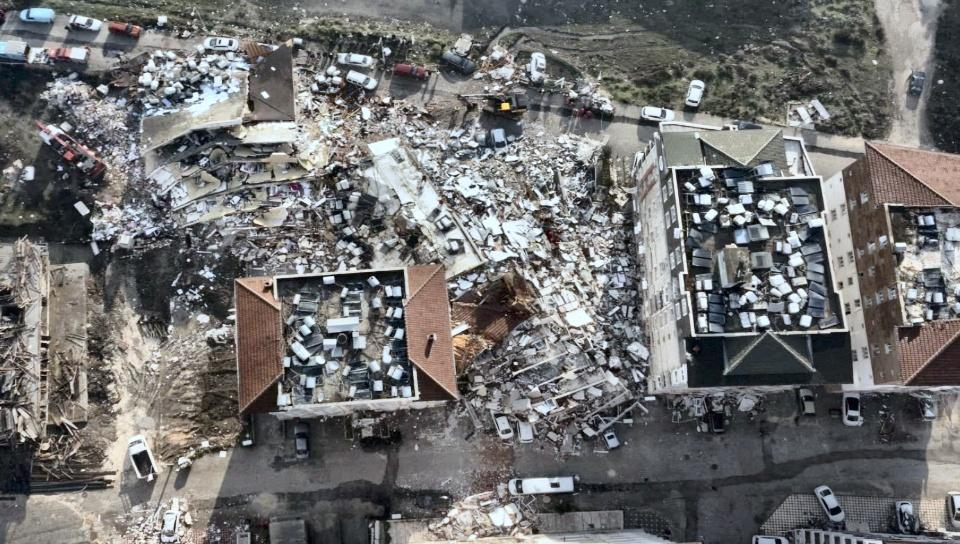kapali: (94, 21, 449, 117)
